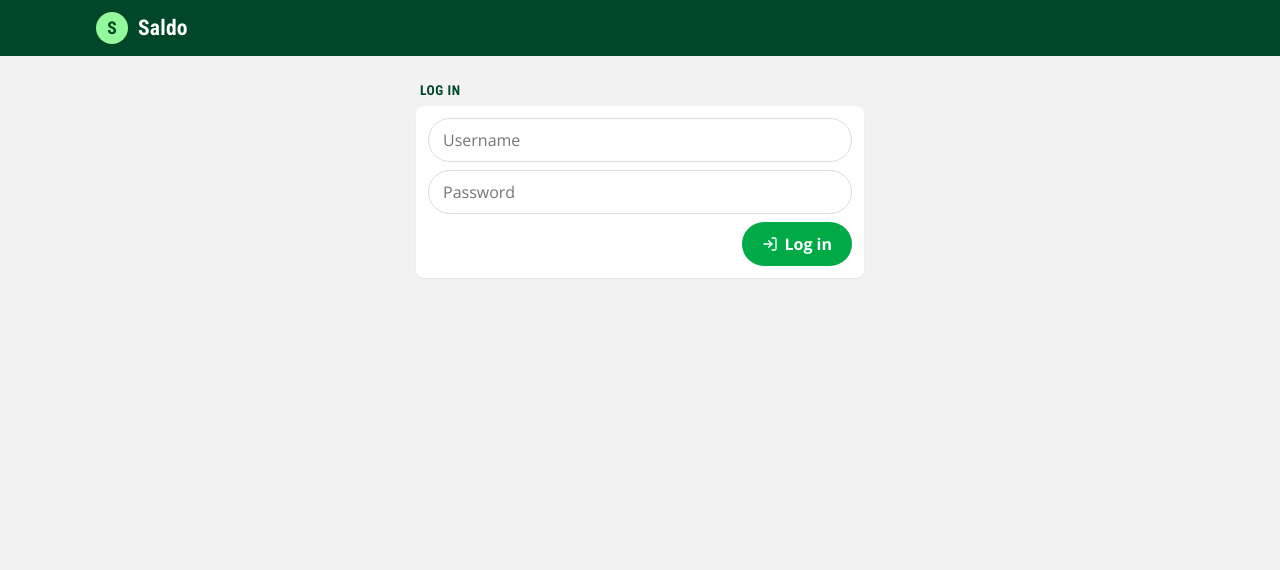
Test: auth › without a token the login screen shows, and logging in opens the demo customers
Type "demo" into the field labelled "Username" at coordinates (640, 140), box [428,118,852,162]
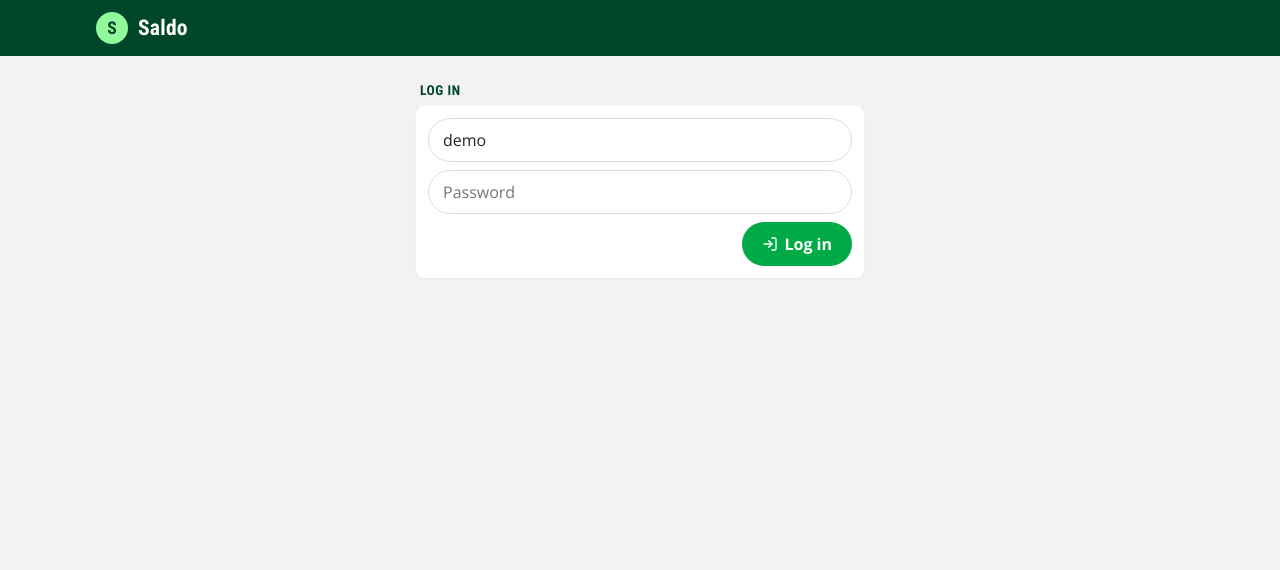
Type "pw" into the password field labelled "Password" at coordinates (640, 192), box [428,170,852,214]
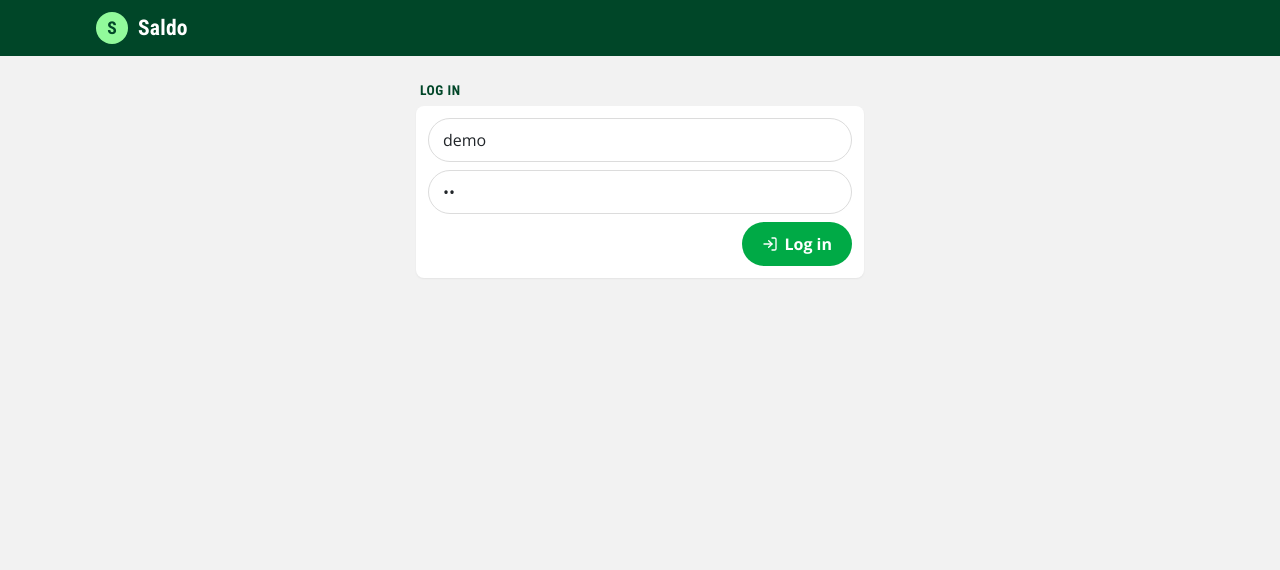
Click the button "Log in" at coordinates (797, 244), box [742,222,852,266]
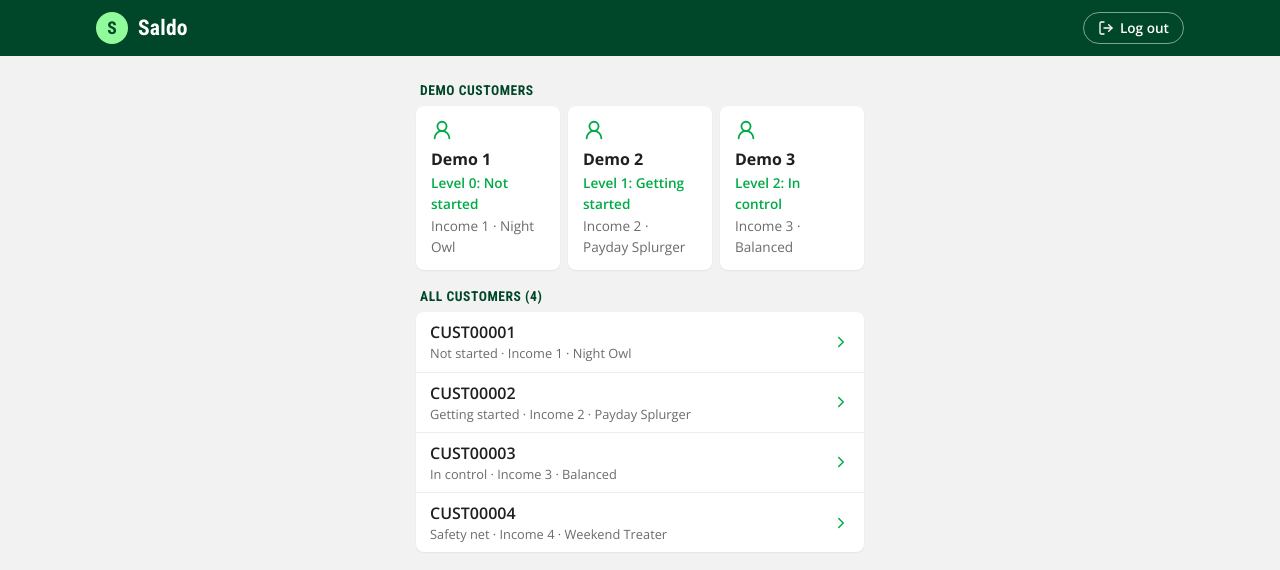
Expected: the button "Demo 1 Level 0: Not started Income 1 · Night Owl" is shown, [416,106,560,270]
